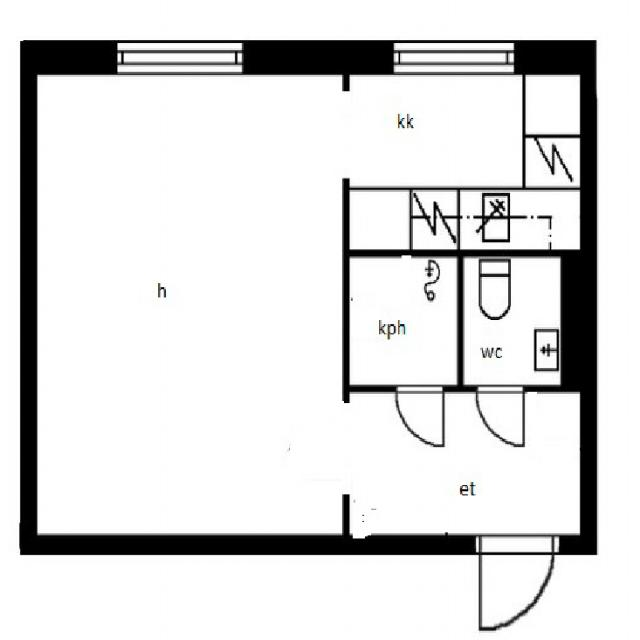door: (480, 536, 554, 640), (475, 385, 523, 449), (396, 385, 444, 448)
